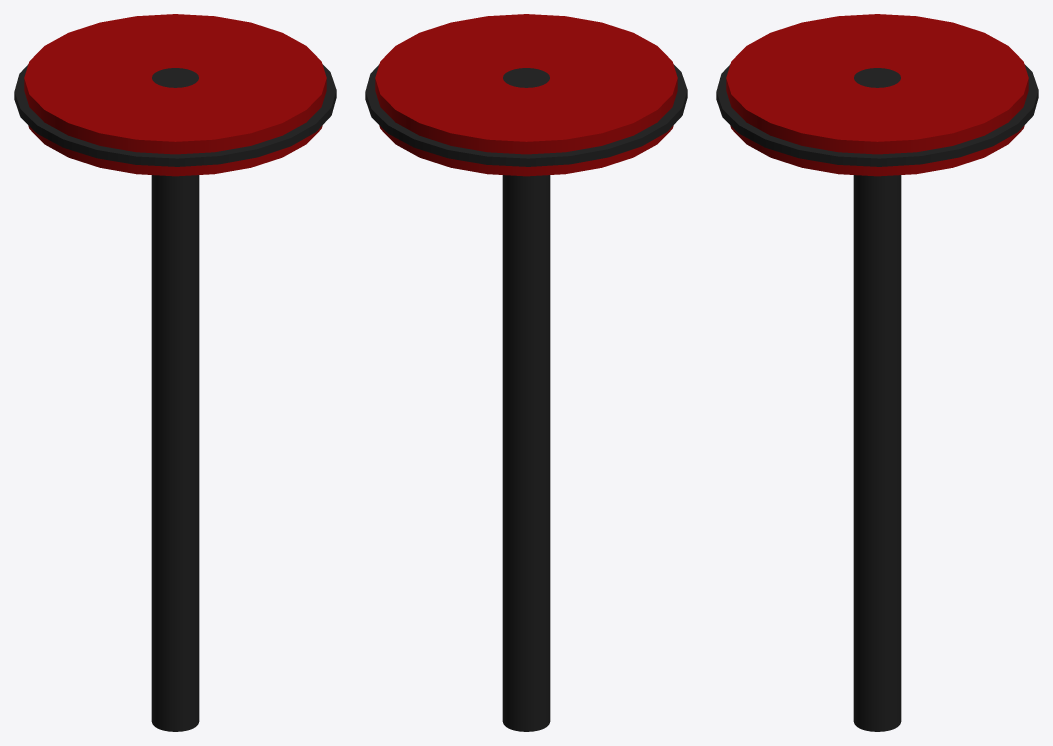
File: Stool 1.dae
3 renders of one model, left to right at view 1: azimuth 30°, elevation 25°; view 2: azimuth 150°, elevation 25°; view 3: azimuth 270°, elevation 25°, orthographic.
Parts seen in each view (by area): view 1: SketchUp (×5); view 2: SketchUp (×5); view 3: SketchUp (×5).
Part boxes in pixels (bbox=[...]): SketchUp (×5): bbox=[14, 14, 336, 731]; SketchUp (×5): bbox=[365, 14, 687, 731]; SketchUp (×5): bbox=[716, 14, 1038, 731].
Size of the model in its own units: 39.12 by 39.12 by 86.31.
